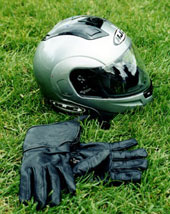helmet: (35, 15, 152, 111)
